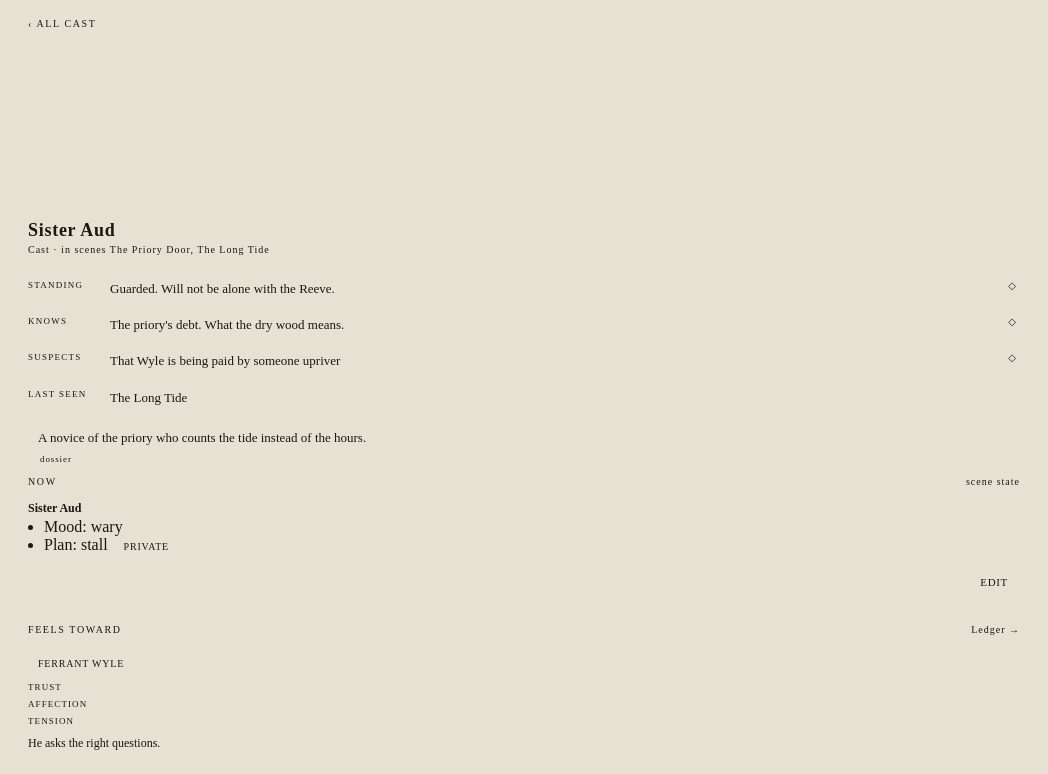
Test: Now › Edit reveals a form limited to this actor, and saving sends only what moved
Click the button "Edit". click: (994, 582)
box: [968,570,1020,594]
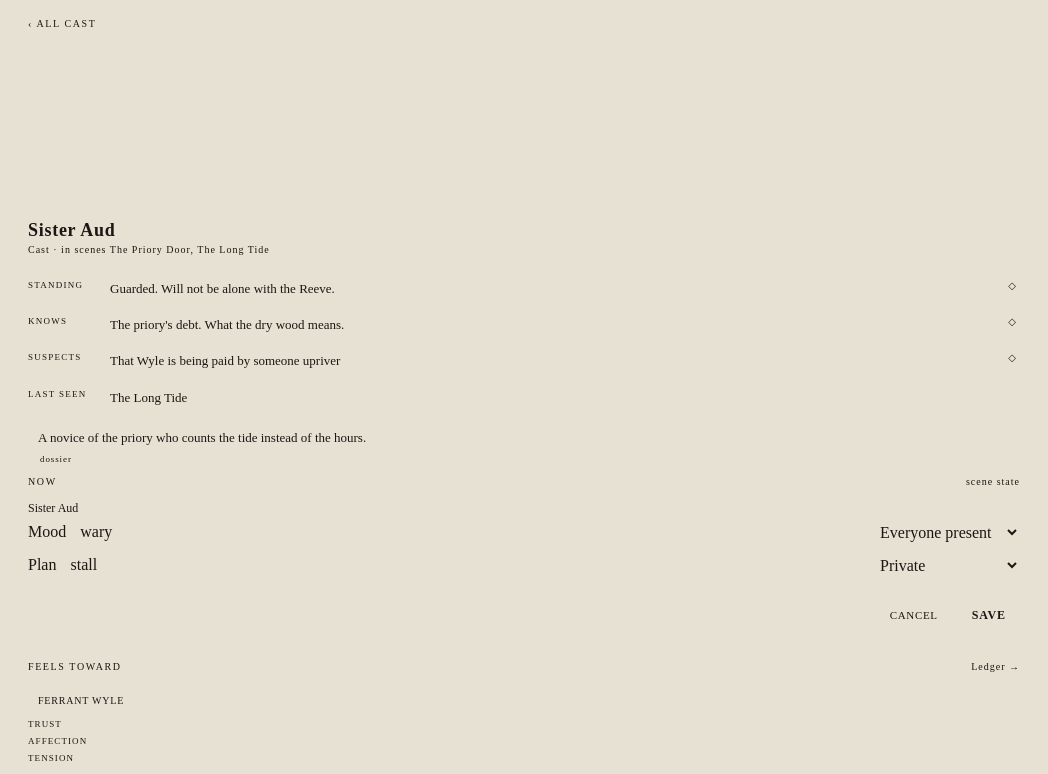
Now the field named "Sister Aud Mood" holds "wary"
Replace the text in the field named "Sister Aud Mood" with "calm". click: (466, 532)
box: [72,518,860,546]
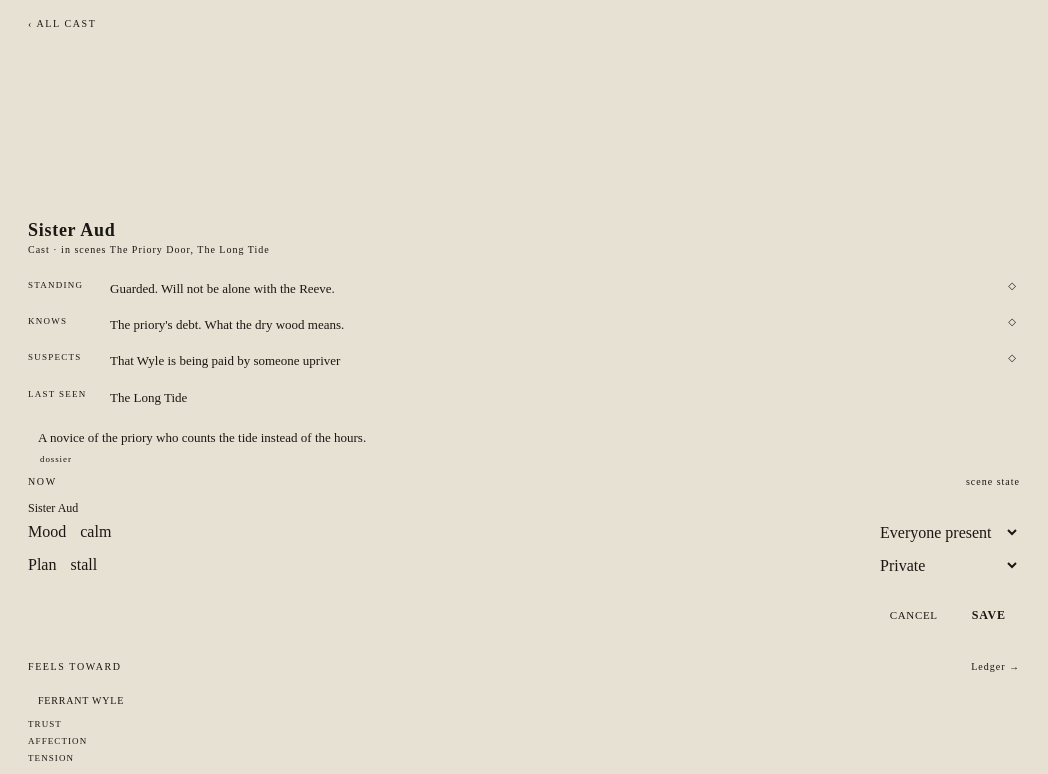
Click the button "Save". click: (989, 615)
box: [958,600,1020,631]
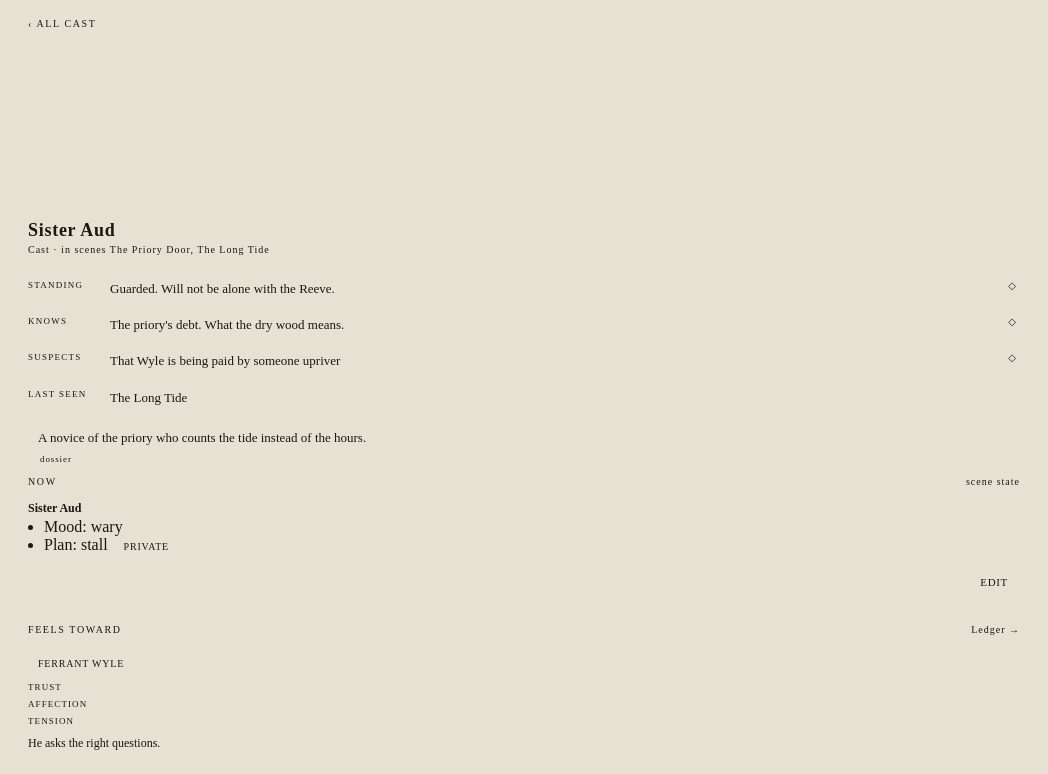
Now the button "Save" is gone
